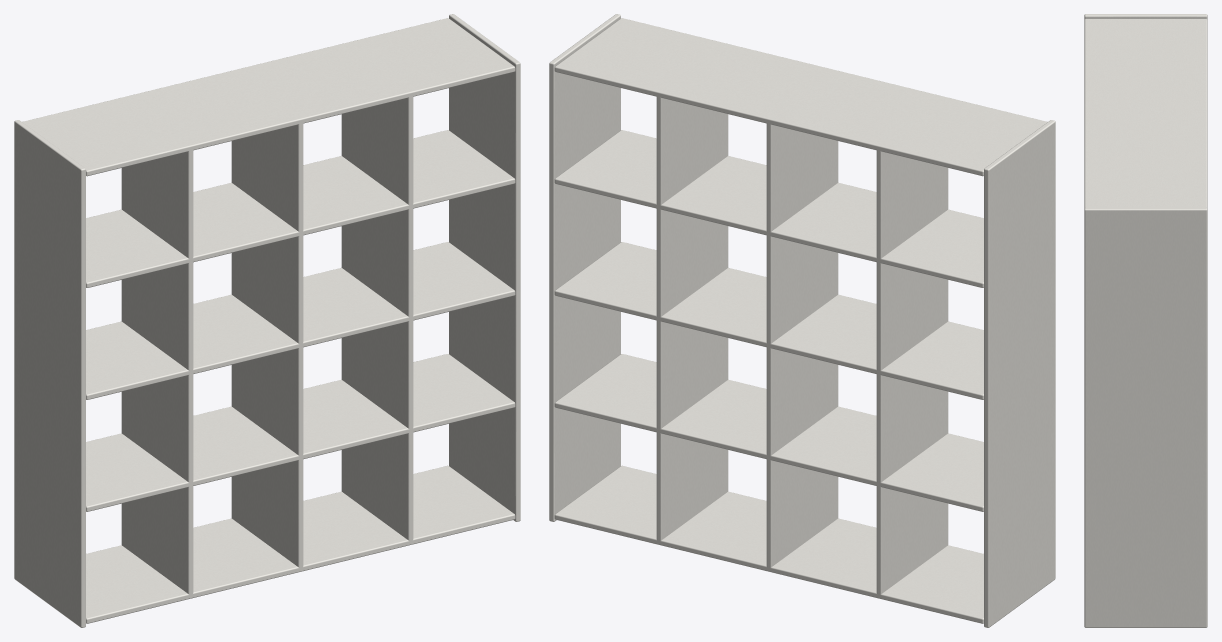
The model's file is kallax-large-mobile.glb.
3 renders of one model, left to right at view 1: azimuth 30°, elevation 25°; view 2: azimuth 150°, elevation 25°; view 3: azimuth 270°, elevation 25°, orthographic. The views are drawn at different scales.
Parts seen in each view (by area): view 1: KALLAX Shelving, 4 × 4; view 2: KALLAX Shelving, 4 × 4; view 3: KALLAX Shelving, 4 × 4.
Boxes of the visible parts, <box> form: KALLAX Shelving, 4 × 4: <box>14,14,520,627</box>; KALLAX Shelving, 4 × 4: <box>549,14,1055,627</box>; KALLAX Shelving, 4 × 4: <box>1084,14,1207,627</box>.
Size of the model in its own units: 1.47 by 1.47 by 0.39.
Materials: 1 (1 with a texture image).
